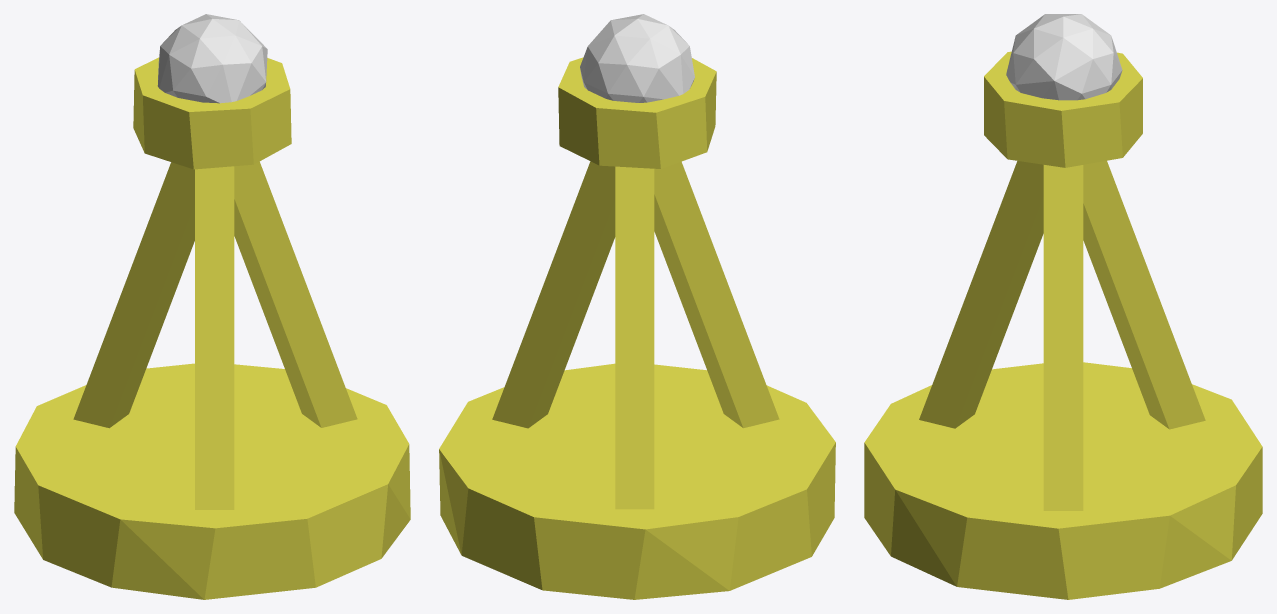
Rendered from buoy.glb.
3 views of the same model, side by side, from view 1: azimuth 30°, elevation 25°; view 2: azimuth 150°, elevation 25°; view 3: azimuth 270°, elevation 25° (orthographic).
Parts seen in each view (by area): view 1: Cylinder; view 2: Cylinder; view 3: Cylinder.
Part boxes in pixels (<box>): Cylinder: <box>14,14,410,599</box>; Cylinder: <box>439,14,835,599</box>; Cylinder: <box>864,14,1262,599</box>.
Bounding box in the file's own units: 2.02 × 2.8 × 2.02.
